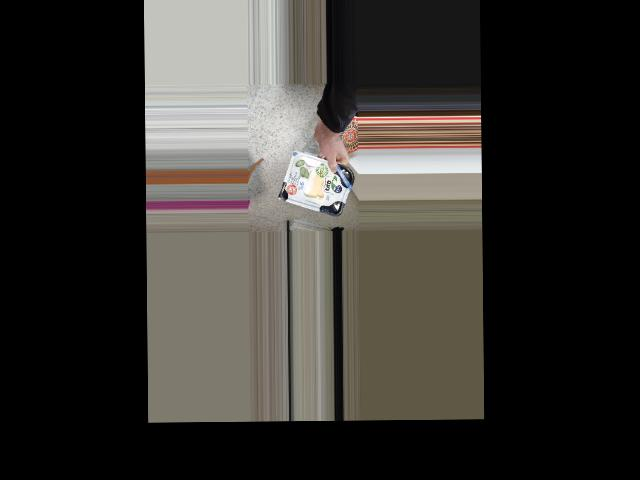cheese: (286, 160, 348, 207)
